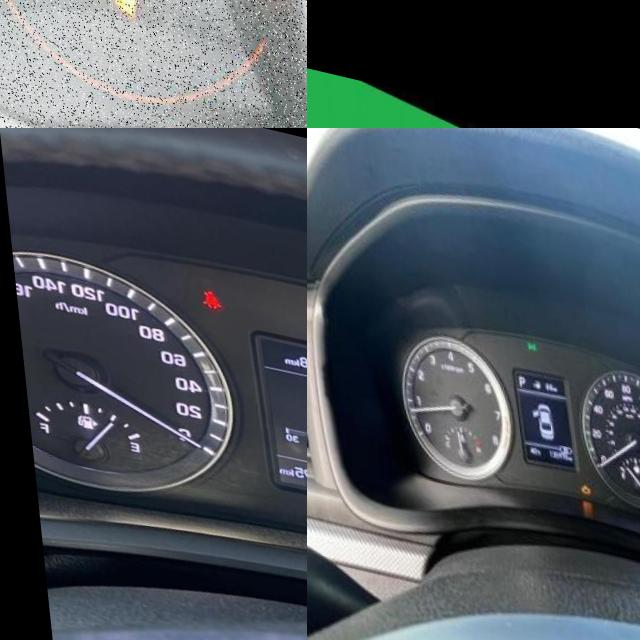Seat Belt: (198, 278, 218, 303)
